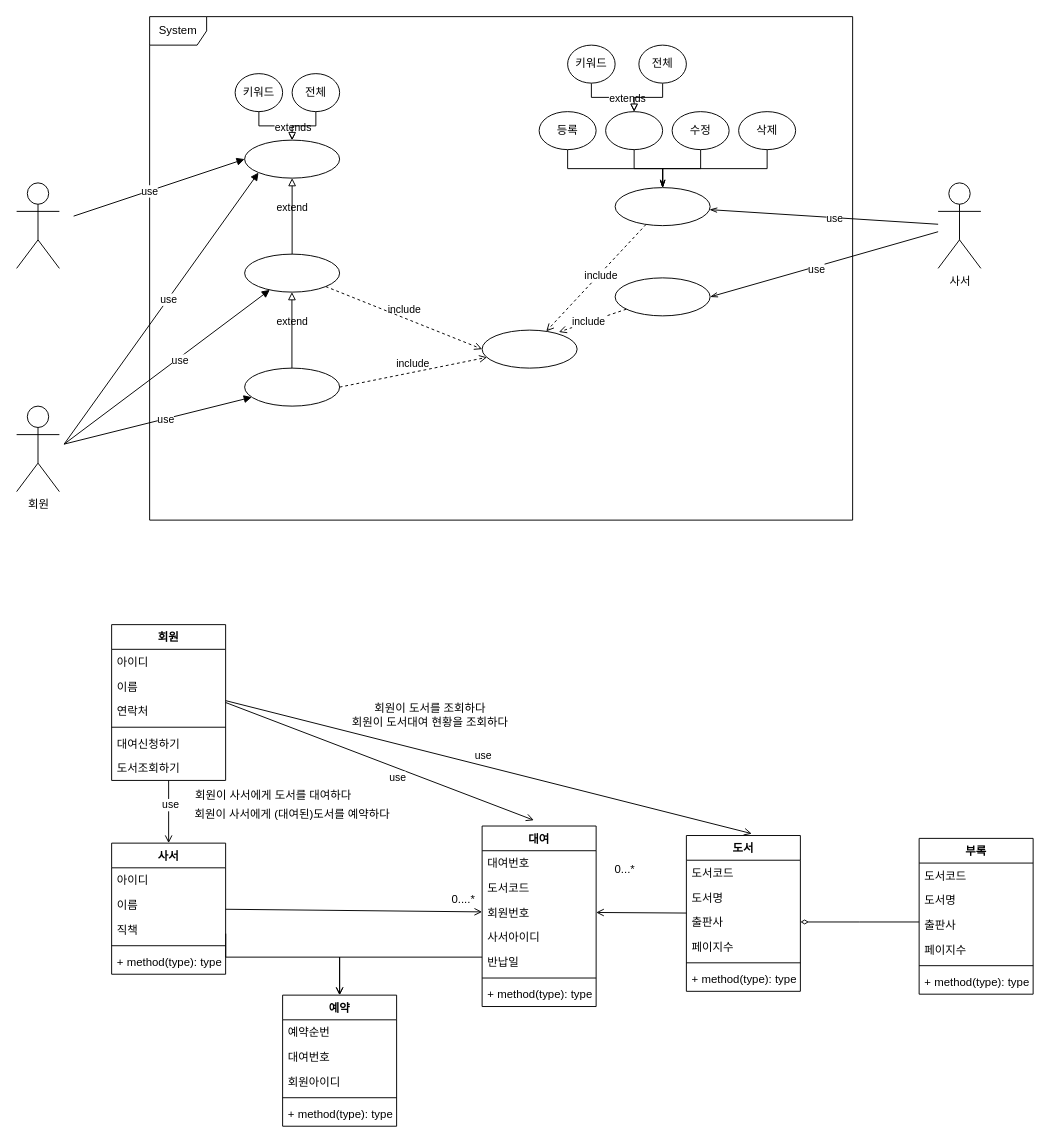
The diagram is 1050 pixels wide and 1146 high, and some of its shapes have lost their labels. The shapes that lost their labels are listed below. From the top down, each one's centre as x and y in pixels, then its label:
At [634,130]: "조회".
At [292,158]: "도서조회".
At [37,225]: "비회원".
At [662,206]: "도서관리".
At [292,272]: "대여신청".
At [662,296]: "회원관리".
At [529,348]: "인증".
At [292,386]: "예약신청".
